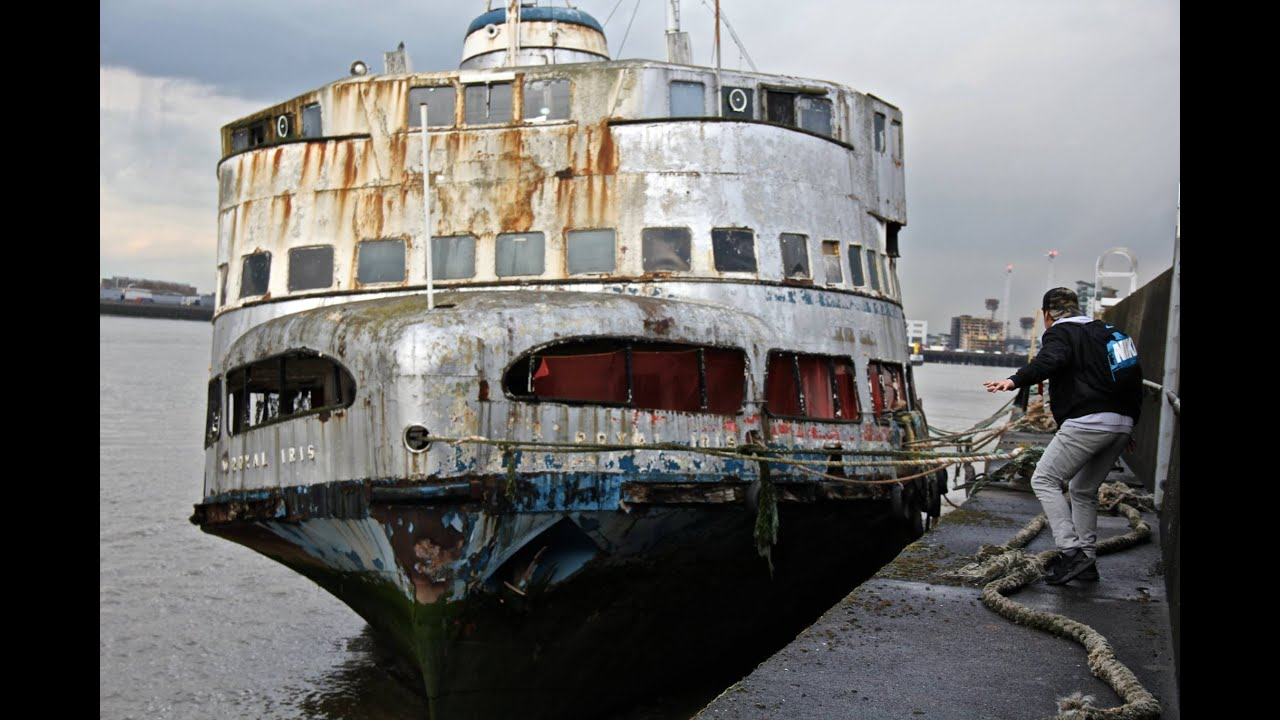rust: (371, 132, 629, 222), (254, 144, 352, 227)
